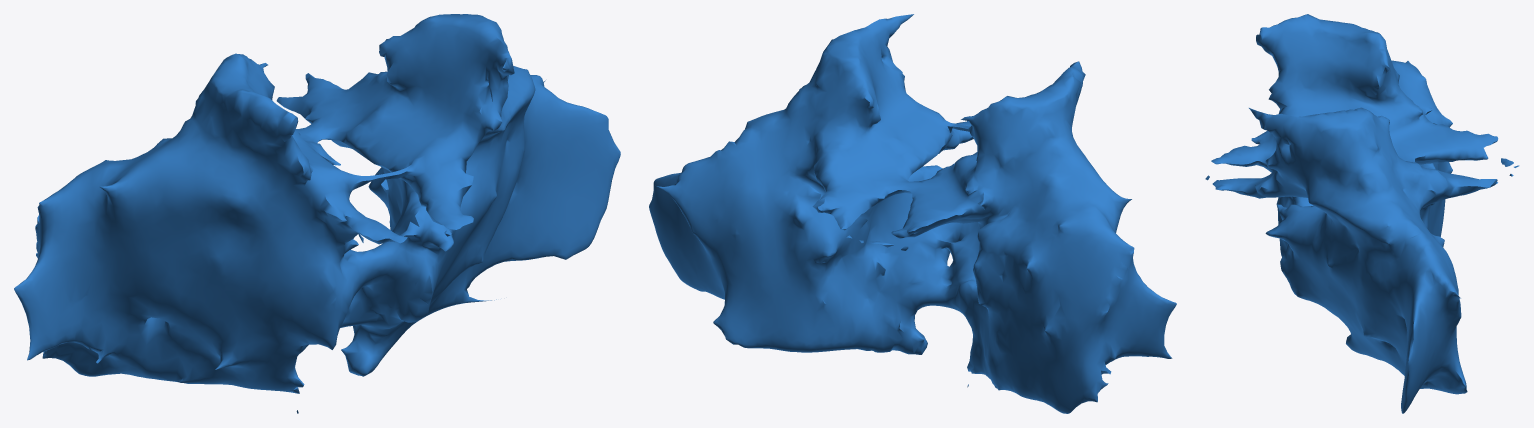
The model's file is cerebellar_white_matter.obj.
3 renders of one model, left to right at view 1: azimuth 30°, elevation 25°; view 2: azimuth 150°, elevation 25°; view 3: azimuth 270°, elevation 25°, orthographic. The views are drawn at different scales.
Parts seen in each view (by area): view 1: grp1; view 2: grp1; view 3: grp1.
Part boxes in pixels (left/top/right/bottom): grp1: left=14, top=14, right=620, bottom=413; grp1: left=649, top=14, right=1176, bottom=413; grp1: left=1205, top=14, right=1519, bottom=413.
Size of the model in its own units: 78.39 by 44.84 by 43.06.
